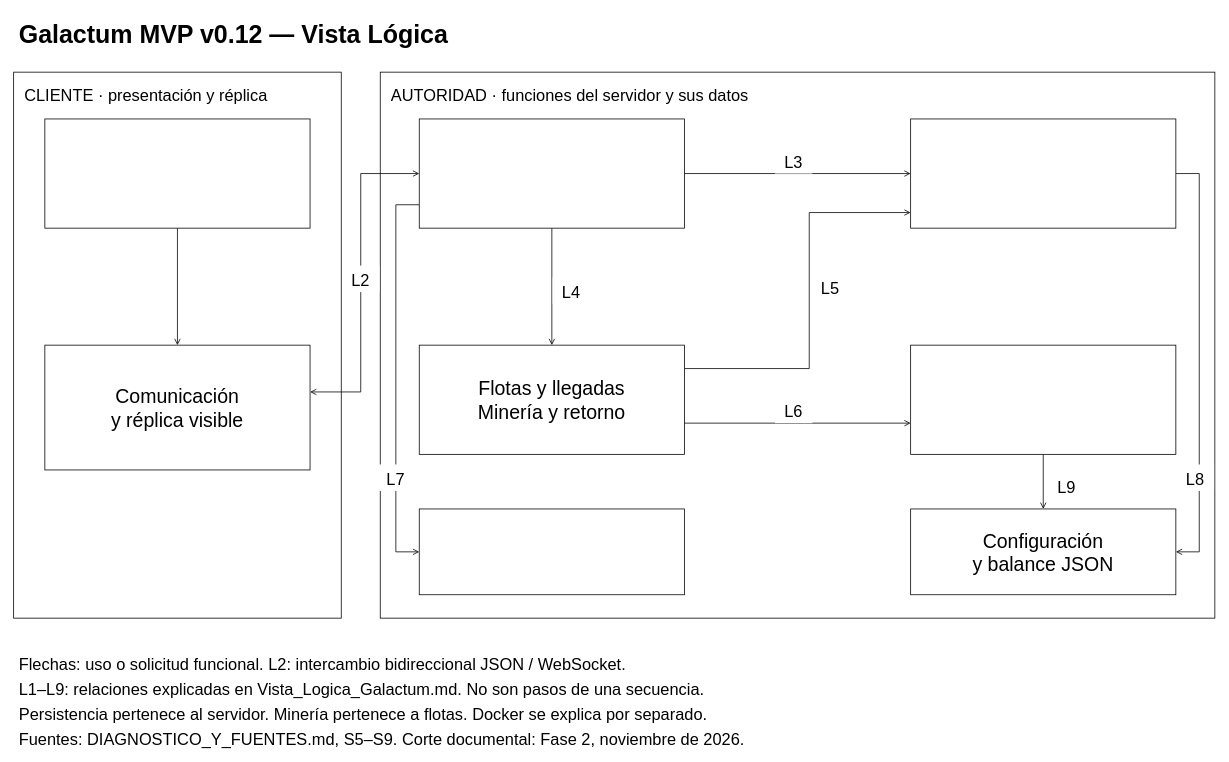
Image size: 1229x762. Some labels were removed from this diagram. Each missing label, with the box of its shape:
L1: (178, 277, 215, 303)
Mundo y entidades Consultas espaciales / AOI: (910, 118, 1176, 228)
Orquestación autoritativa: (418, 118, 684, 228)
Persistencia JSON Responsabilidad del servidor: (418, 508, 684, 595)
Presentación e interacción: (44, 118, 310, 228)
Resolución de combate: (910, 344, 1176, 454)
